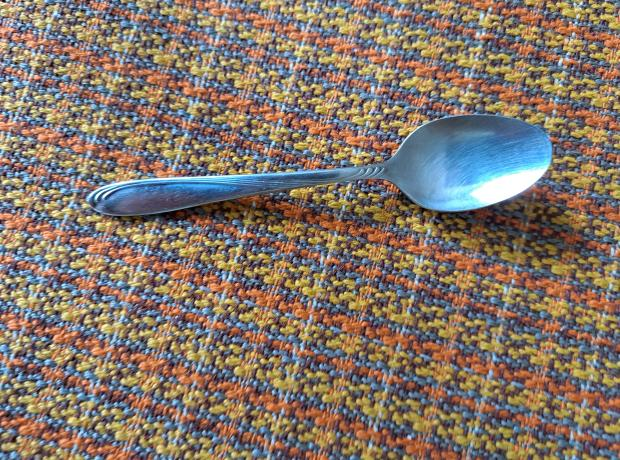metal: (83, 118, 554, 241)
